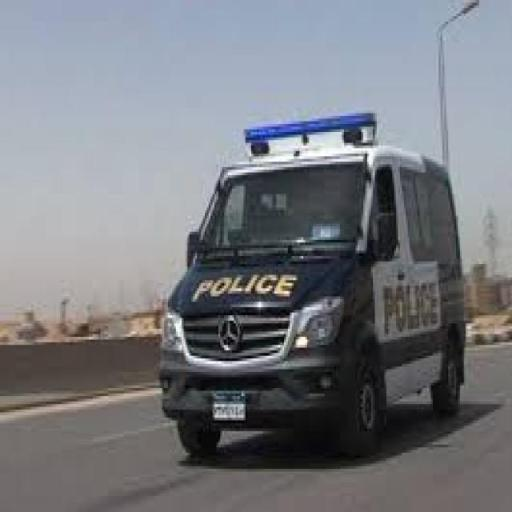Ambulance: (158, 106, 465, 456)
